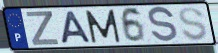6: (119, 6, 148, 46)
A: (59, 10, 94, 45)
M: (83, 9, 122, 45)
S: (147, 5, 179, 45), (177, 6, 209, 43)
Z: (25, 10, 61, 47)
